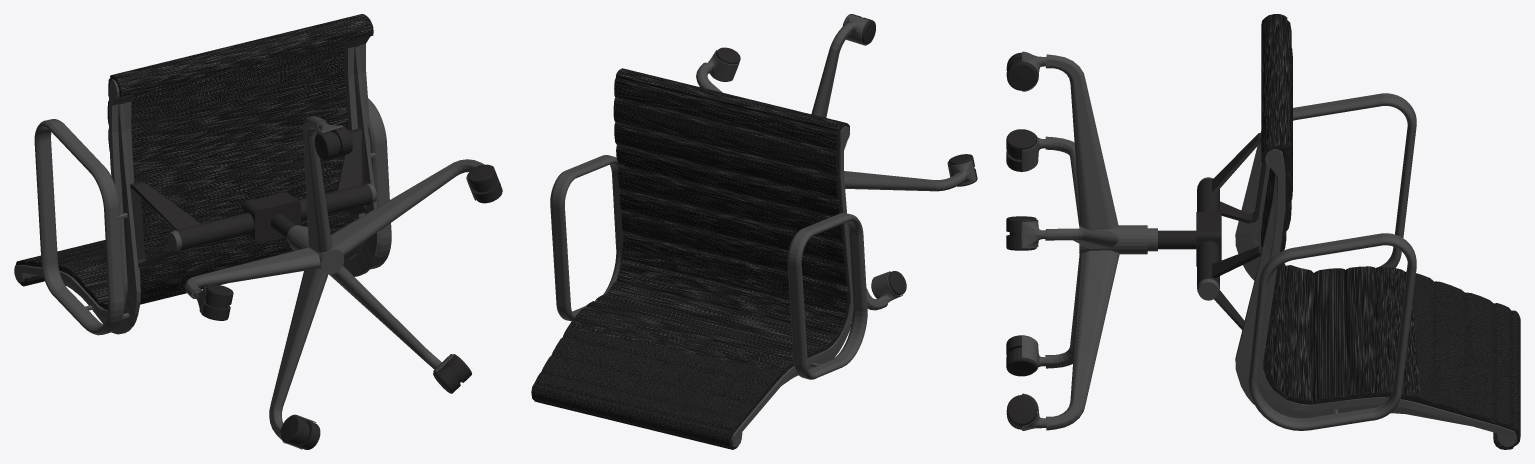
The model's file is original_mesh_orient_01_flip_z.glb.
3 renders of one model, left to right at view 1: azimuth 30°, elevation 25°; view 2: azimuth 150°, elevation 25°; view 3: azimuth 270°, elevation 25°, orthographic. The views are drawn at different scales.
Visible parts, largest first — view 1: world; view 2: world; view 3: world.
Part boxes in pixels (x1=…): world: x1=14, y1=14, x2=502, y2=449; world: x1=531, y1=14, x2=977, y2=449; world: x1=1006, y1=14, x2=1520, y2=449.
Size of the model in its own units: 0.5048 by 0.5057 by 0.6996.
Materials: 1 (1 with a texture image).
